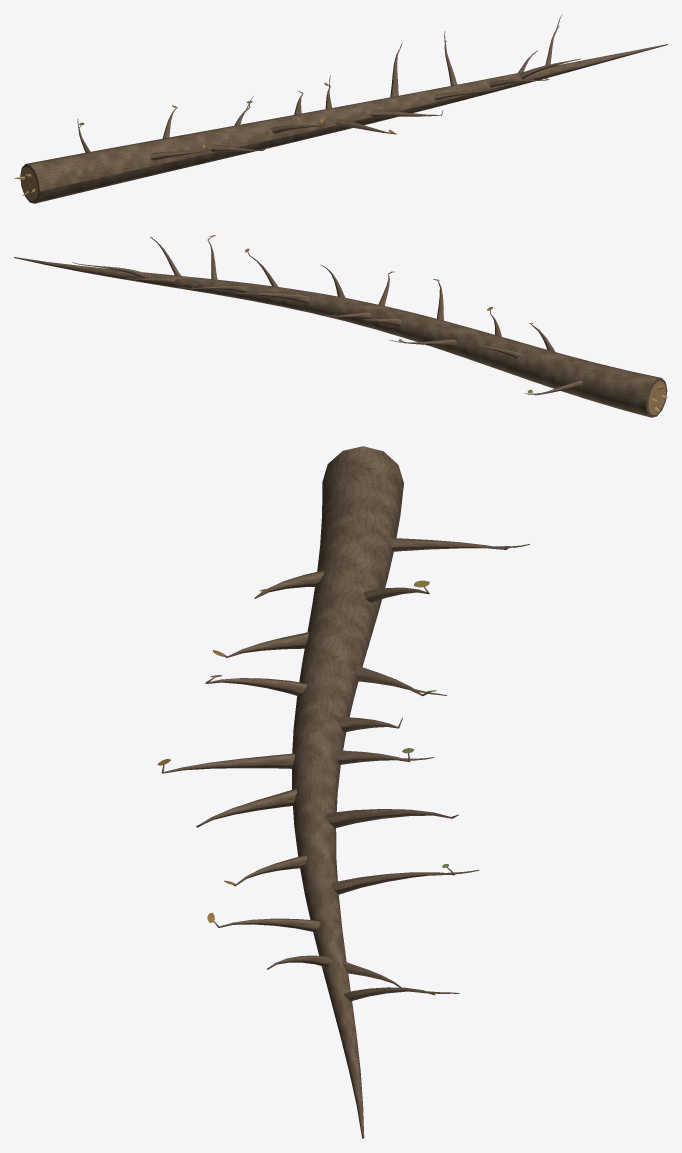
3 renders of one model, top to bottom at view 1: azimuth 30°, elevation 25°; view 2: azimuth 150°, elevation 25°; view 3: azimuth 270°, elevation 25°, orthographic. The views are drawn at different scales.
Visible parts, largest first — view 1: VIS_Windfall_Branch_Bark, VIS_Windfall_Branch_FreshWood; view 2: VIS_Windfall_Branch_Bark, VIS_Windfall_Branch_FreshWood; view 3: VIS_Windfall_Branch_Bark.
Boxes of the visible parts, left/top/right/bottom form: VIS_Windfall_Branch_Bark: left=20, top=14, right=667, bottom=203; VIS_Windfall_Branch_FreshWood: left=14, top=167, right=38, bottom=200; VIS_Windfall_Branch_Bark: left=14, top=236, right=667, bottom=417; VIS_Windfall_Branch_FreshWood: left=648, top=380, right=667, bottom=414; VIS_Windfall_Branch_Bark: left=161, top=446, right=529, bottom=1138.
Bounding box in the file's own units: 3.84 × 0.2792 × 0.9702.
3 materials, 3 textured.
